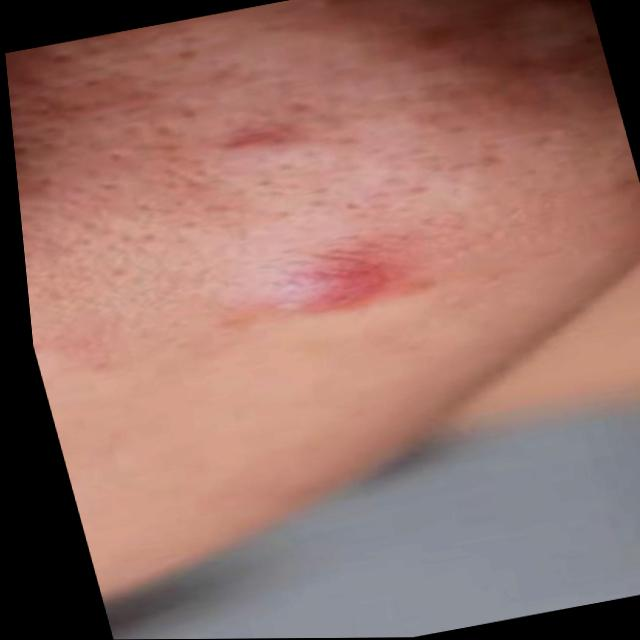nodule: (208, 239, 424, 323)
